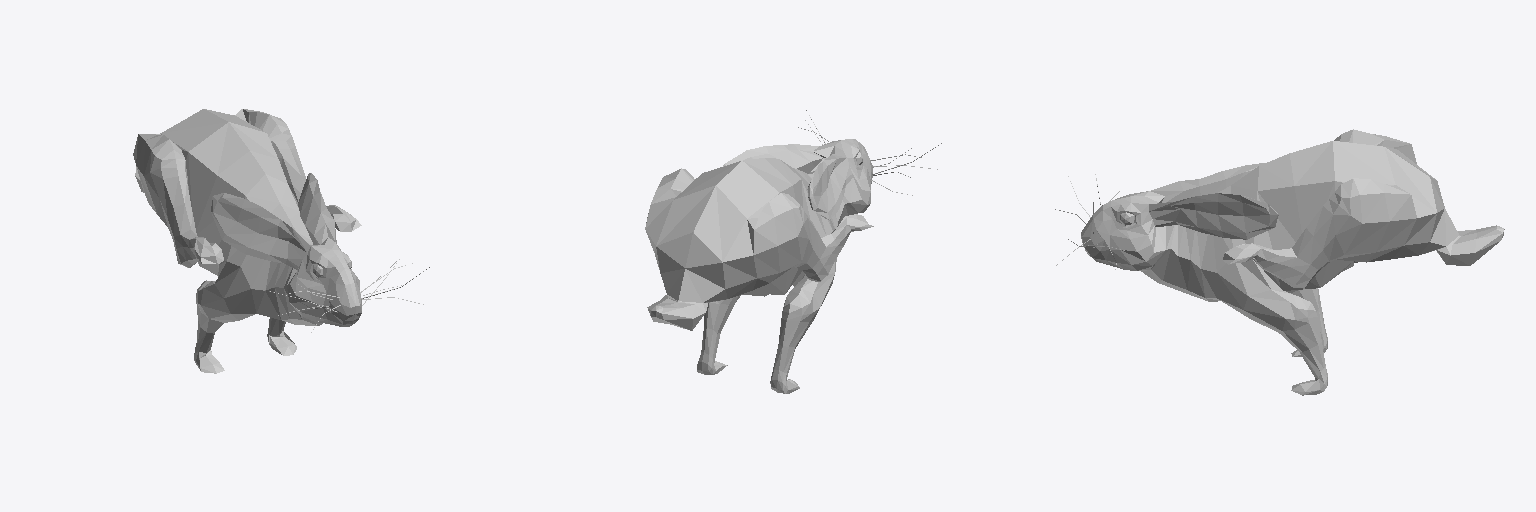
Rendered from rabbit_000012.obj.
The picture shows the model from 3 angles: view 1: azimuth 30°, elevation 25°; view 2: azimuth 150°, elevation 25°; view 3: azimuth 270°, elevation 25°; orthographic projection.
Visible parts, largest first — view 1: Rabbit_Cylinder; view 2: Rabbit_Cylinder; view 3: Rabbit_Cylinder.
Boxes of the visible parts, box(x1,y1,x2,y2) form: Rabbit_Cylinder: box(133, 109, 429, 373); Rabbit_Cylinder: box(645, 110, 941, 393); Rabbit_Cylinder: box(1055, 129, 1504, 395).
Bounding box in the file's own units: 8.03 × 11.04 × 19.55.